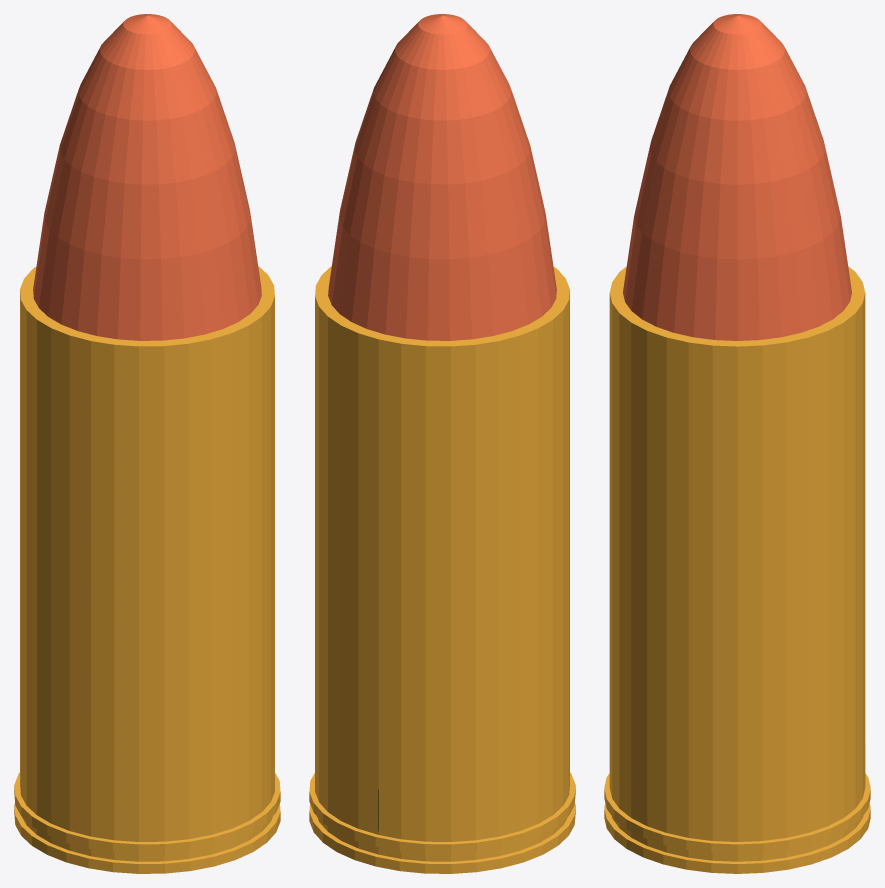
Rendered from Bullet.fbx.
The picture shows the model from 3 angles, left to right: view 1: azimuth 30°, elevation 25°; view 2: azimuth 150°, elevation 25°; view 3: azimuth 270°, elevation 25°; orthographic projection.
Parts seen in each view (by area): view 1: Bullet; view 2: Bullet; view 3: Bullet.
Boxes of the visible parts, x1=… form: Bullet: x1=14, y1=14, x2=280, y2=873; Bullet: x1=309, y1=14, x2=575, y2=873; Bullet: x1=604, y1=14, x2=870, y2=873.
Bounding box in the file's own units: 53.65 × 178 × 53.65.
